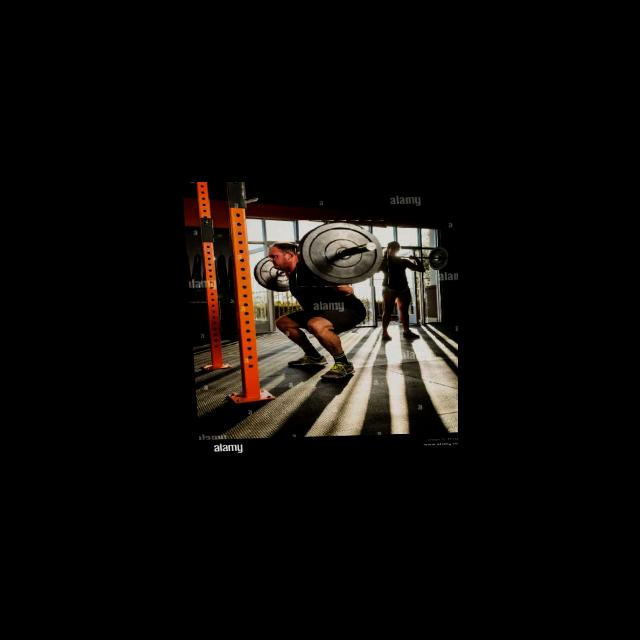barbell: (293, 220, 389, 289)
